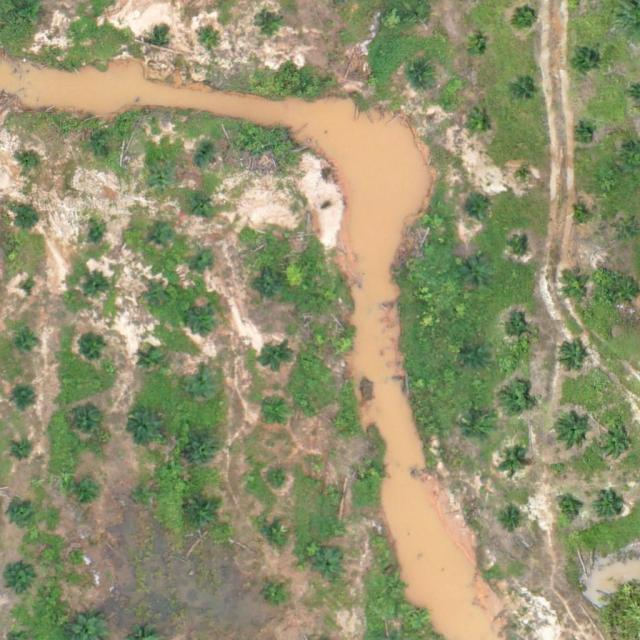Grass: (255, 272, 286, 303)
Small: (124, 407, 164, 447), (185, 367, 224, 407), (555, 412, 594, 451), (596, 423, 635, 462), (190, 434, 221, 466), (189, 499, 220, 531), (5, 562, 36, 594), (258, 519, 289, 551), (561, 272, 592, 304), (465, 109, 496, 141), (72, 406, 103, 438), (80, 331, 111, 363), (190, 304, 221, 335), (315, 551, 346, 582), (503, 317, 534, 348), (502, 385, 533, 416), (558, 343, 589, 374), (595, 491, 626, 522), (261, 344, 292, 375), (260, 400, 291, 431), (570, 45, 601, 76), (462, 260, 493, 291), (463, 416, 494, 447), (382, 575, 406, 599), (265, 582, 289, 606), (501, 450, 525, 474), (502, 507, 526, 531), (556, 497, 580, 521), (322, 482, 346, 506), (329, 412, 353, 436), (332, 334, 356, 358), (464, 197, 488, 221), (19, 149, 43, 173), (15, 390, 39, 414), (11, 440, 35, 464), (89, 220, 113, 244), (194, 246, 218, 270), (194, 192, 218, 216), (193, 145, 217, 169), (74, 480, 98, 504), (363, 459, 386, 483), (466, 38, 490, 61), (464, 346, 487, 370), (258, 14, 281, 38), (408, 4, 432, 27), (516, 5, 539, 29), (198, 29, 221, 53), (12, 208, 36, 231), (18, 281, 42, 304), (16, 333, 40, 356), (86, 273, 110, 296), (96, 145, 119, 169), (149, 168, 172, 192), (152, 225, 175, 249), (146, 285, 169, 309), (134, 484, 157, 508), (9, 500, 32, 524), (266, 471, 289, 494), (617, 221, 640, 244), (514, 83, 537, 106), (409, 65, 432, 88), (140, 351, 163, 374), (572, 207, 588, 223), (517, 169, 533, 185), (149, 33, 165, 49), (577, 126, 592, 142), (514, 239, 529, 255)
